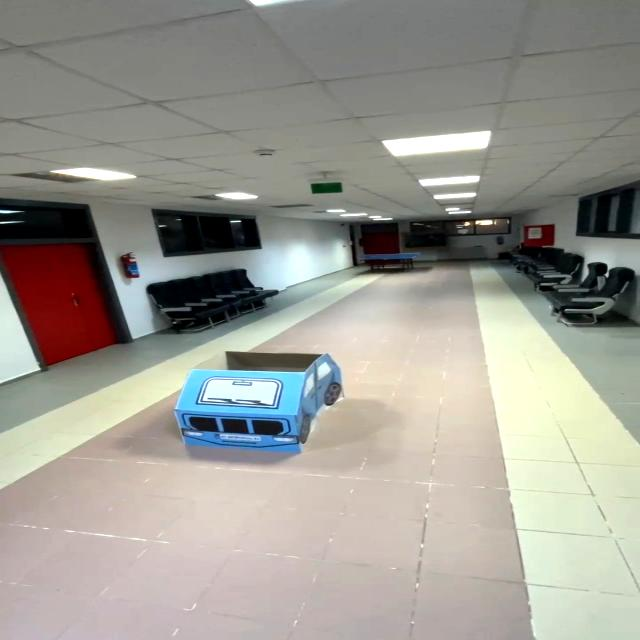blue_car: (155, 330, 357, 474)
